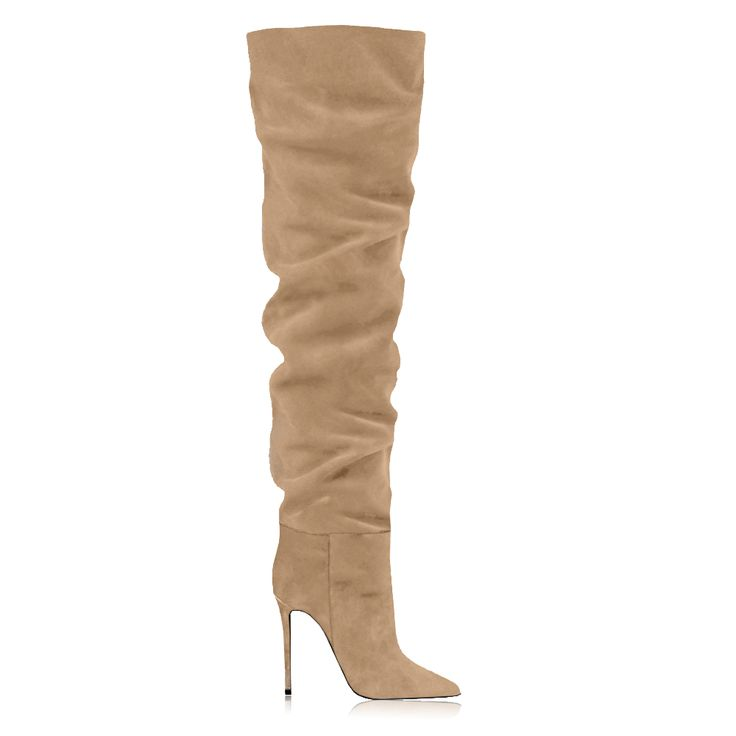gamuza: (247, 23, 460, 699)
